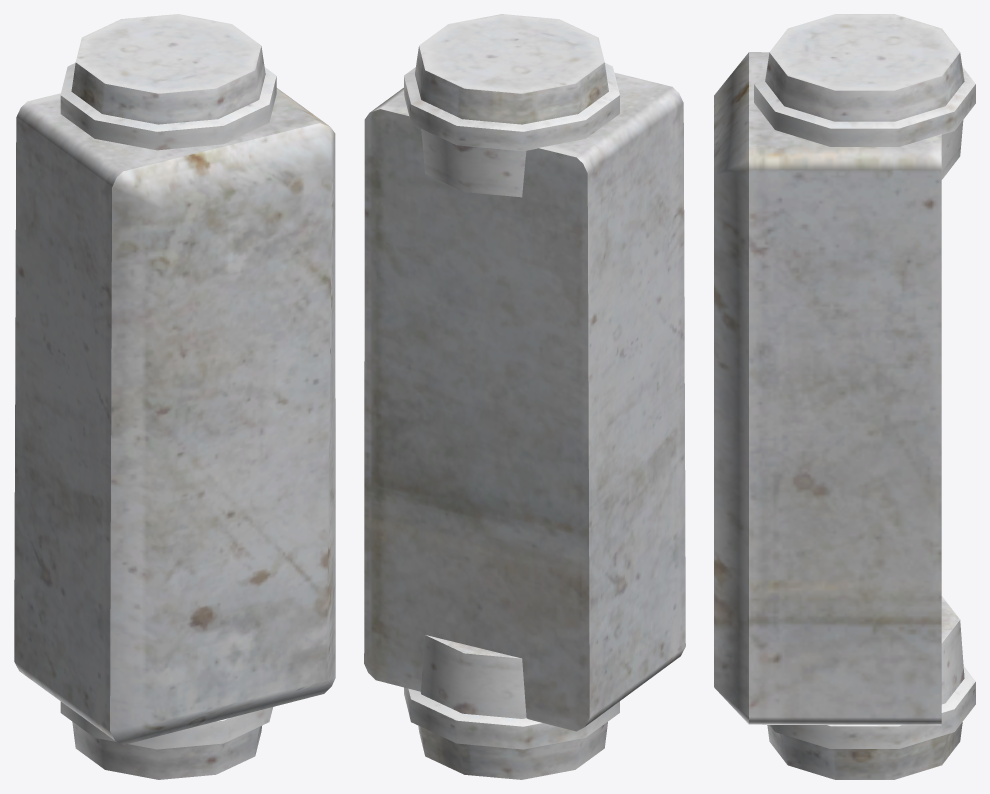
File: SM_Wires_Pipes_01f.glb
3 renders of one model, left to right at view 1: azimuth 30°, elevation 25°; view 2: azimuth 150°, elevation 25°; view 3: azimuth 270°, elevation 25°, orthographic.
Parts seen in each view (by area): view 1: SM_Wires_Pipes_01f; view 2: SM_Wires_Pipes_01f; view 3: SM_Wires_Pipes_01f.
Boxes of the visible parts, box(x1,y1,x2,y2) form: SM_Wires_Pipes_01f: box(14, 14, 335, 779); SM_Wires_Pipes_01f: box(364, 14, 685, 779); SM_Wires_Pipes_01f: box(714, 14, 975, 779).
Bounding box in the file's own units: 0.0403 × 0.1172 × 0.0403.
Materials: 1 (1 with a texture image).
